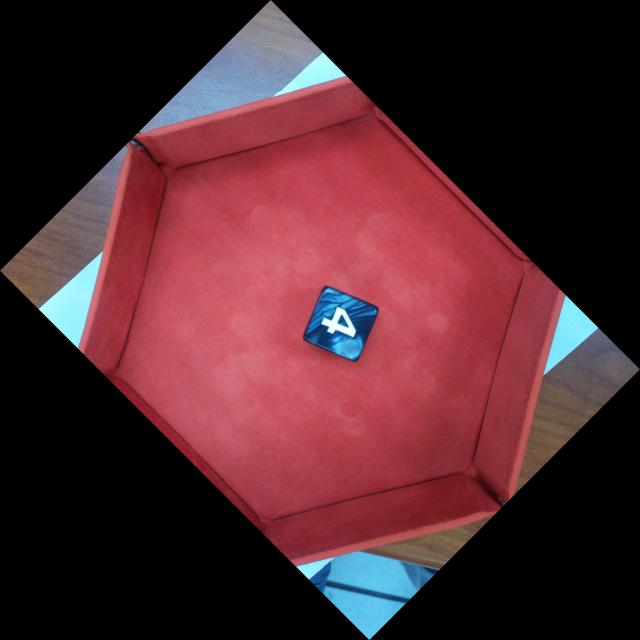dice: (302, 288, 383, 366)
